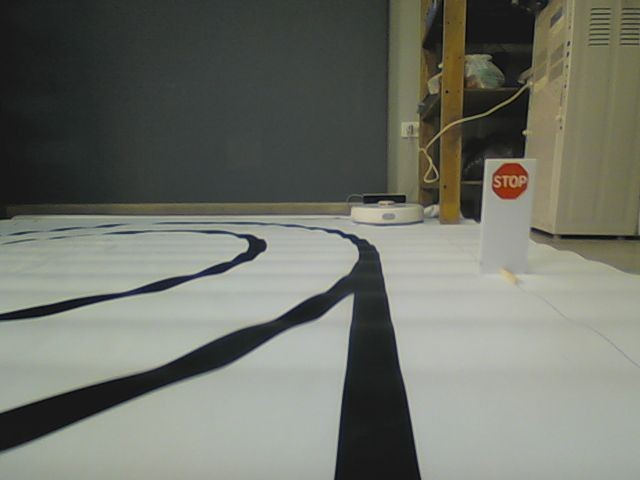Stop: (490, 162, 529, 201)
